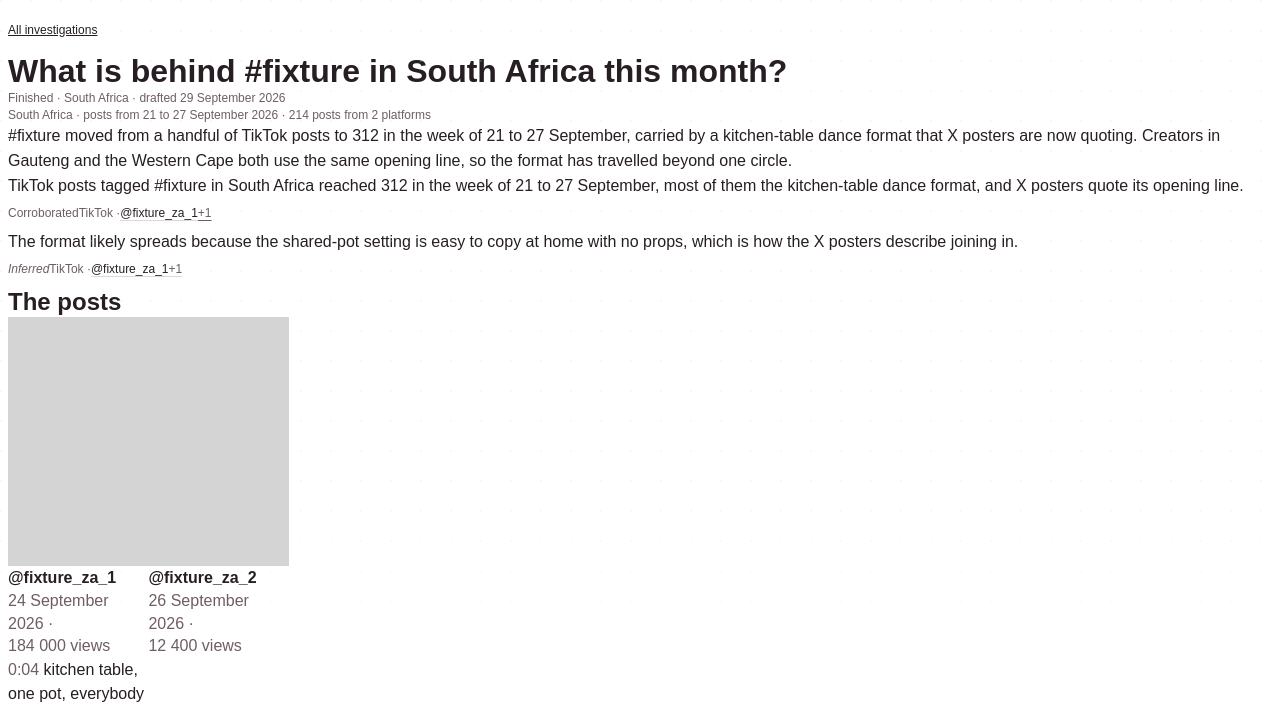
Test: cited source disclosure keeps focus when expanding and collapsing
Click the button with class "ask42-chip-more" in the row of "Corroborated".
click(205, 214)  # box [198, 198, 212, 230]
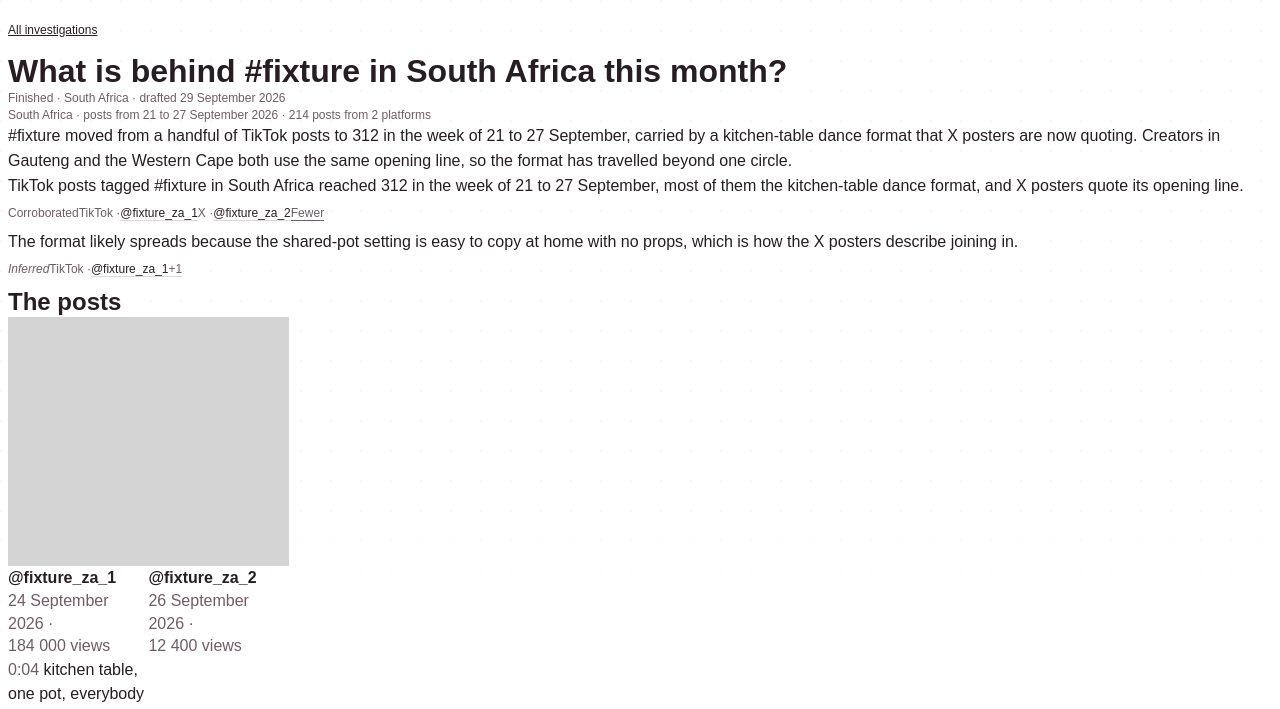
Expected: the button with class "ask42-chip-more" is expanded
Expected: the button with class "ask42-chip-more" reads "Fewer"
Click the button with class "ask42-chip-more" showing "Fewer".
click(307, 214)  # box [291, 198, 324, 230]
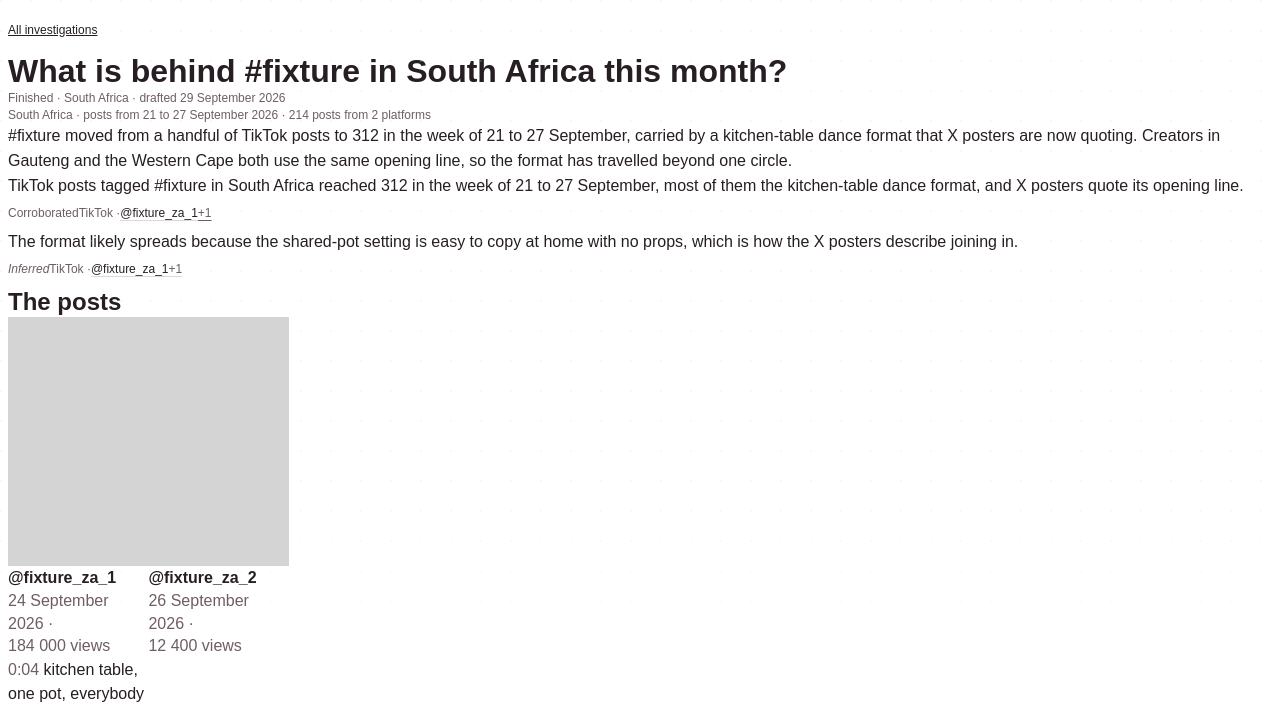
Expected: the button with class "ask42-chip-more" in the row of "Corroborated" is collapsed, [198, 198, 212, 230]
